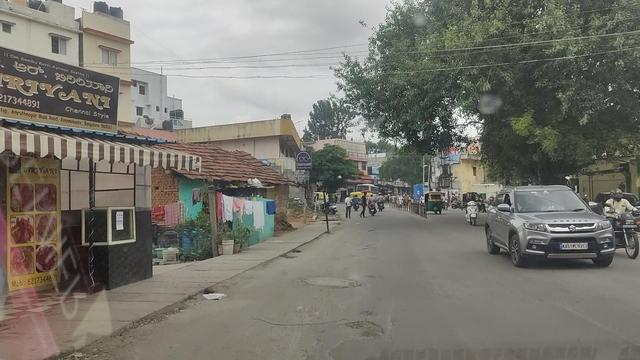RoadDamages: (339, 310, 386, 339), (301, 274, 359, 293), (298, 338, 345, 360), (361, 226, 381, 255)
